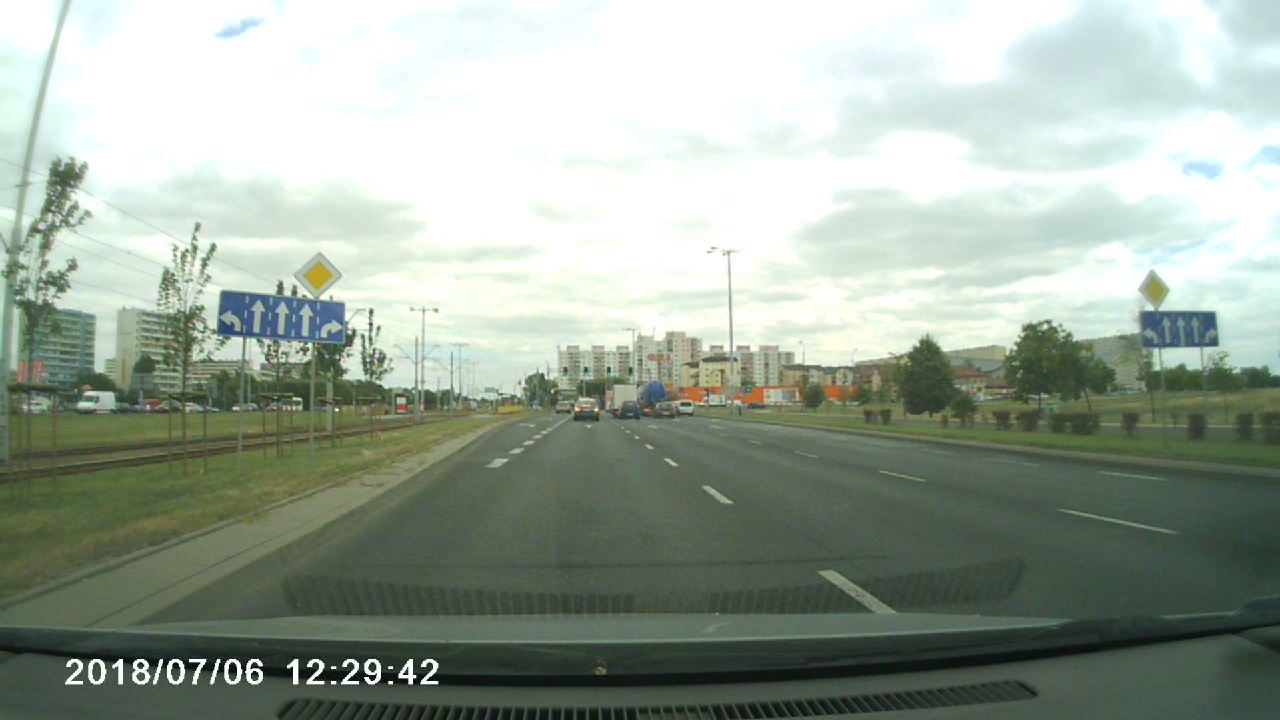D1: (295, 253, 344, 297), (1138, 270, 1169, 310)
